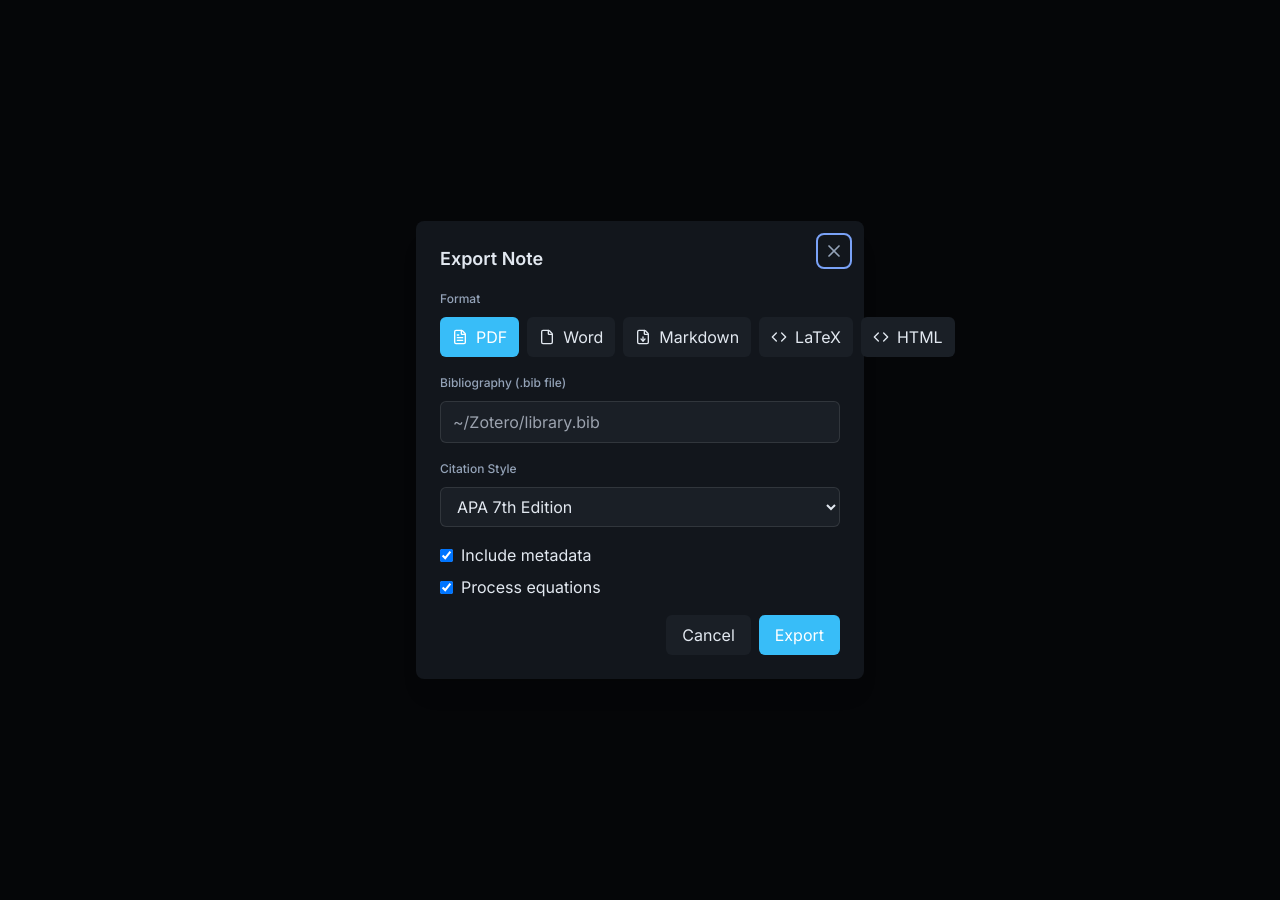
Scenario: ExportDialog Component › shows success message on successful export
What coordinates should you click on to do the following:
click the button "Export"
I would click on:
 (799, 635)
Its box is [759,615,840,655].
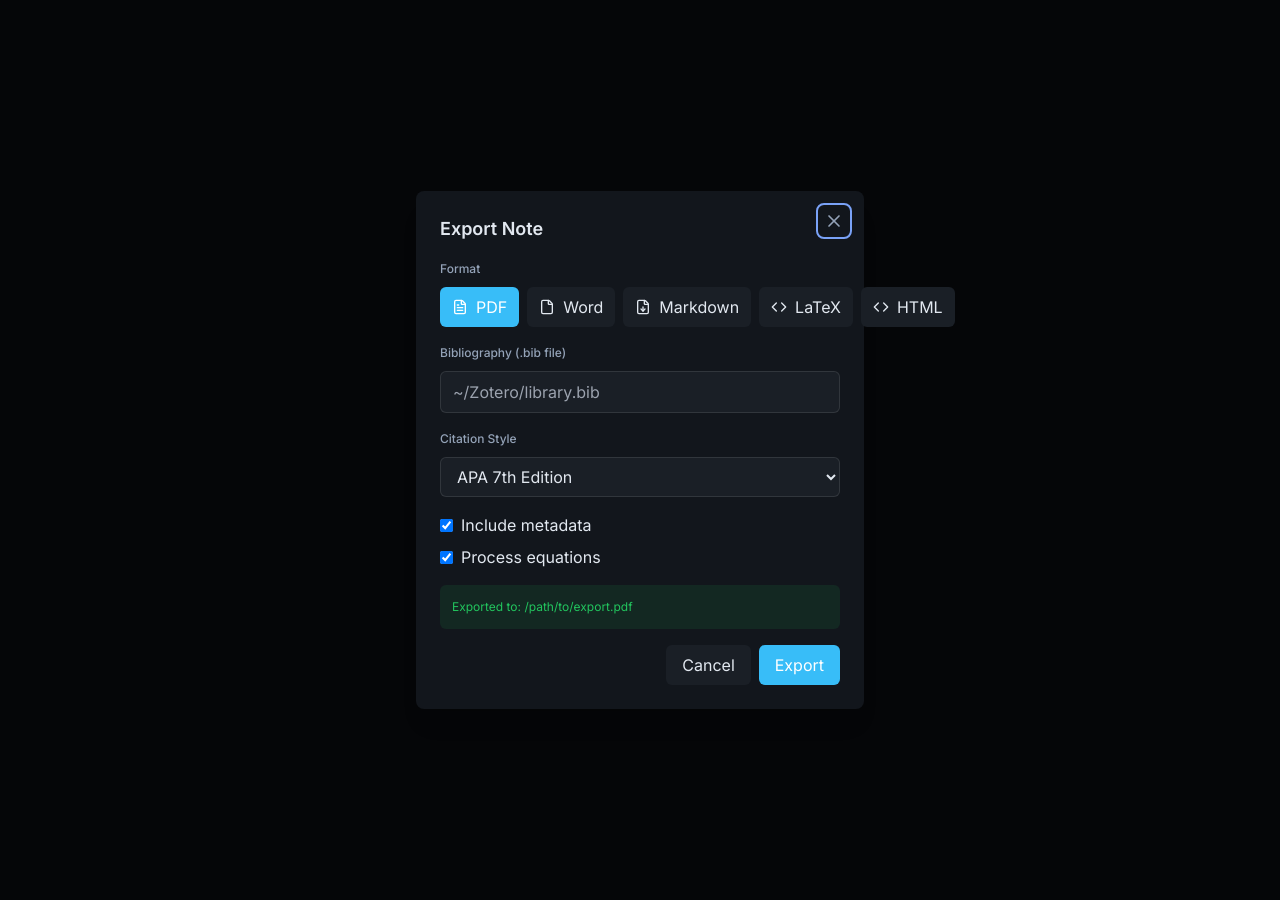
Result: the text "Exported to: /path/to/export.pdf" is shown at [440,585,840,629]
